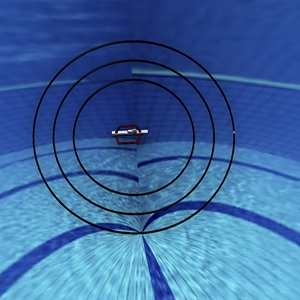circle: (26, 24, 241, 241)
submarine: (108, 118, 152, 151)
